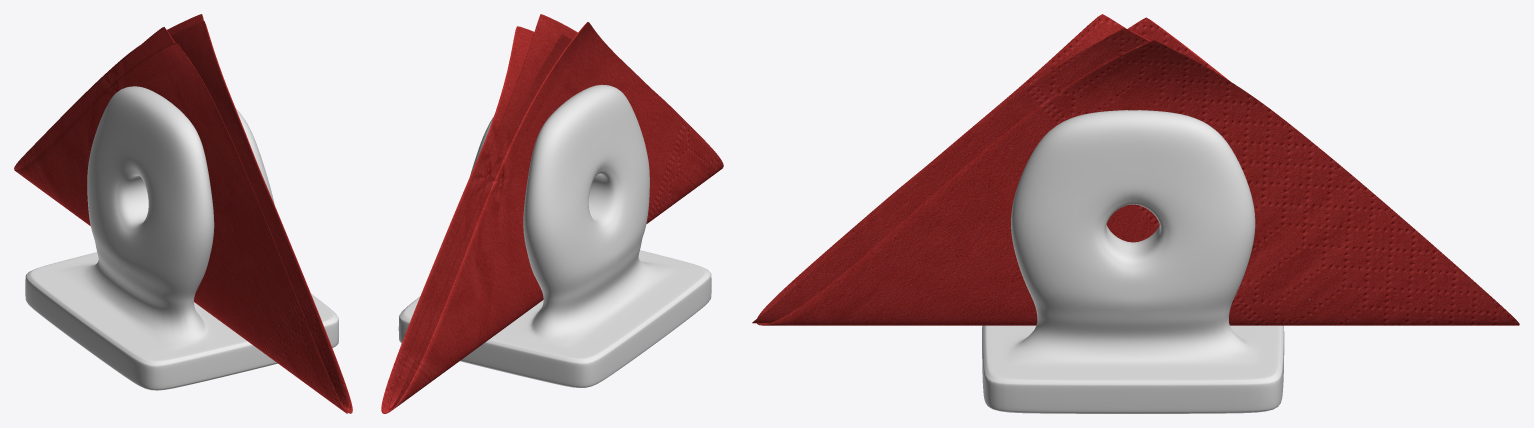
File: uploads_files_3504329_Handkerchief+stand.fbx
3 views of the same model, side by side, from view 1: azimuth 30°, elevation 25°; view 2: azimuth 150°, elevation 25°; view 3: azimuth 270°, elevation 25° (orthographic). The views are drawn at different scales.
Parts seen in each view (by area): view 1: stand, hand_2, hand; view 2: stand, hand_2, hand; view 3: hand_2, stand, hand.
Part boxes in pixels (x1,y1,x2,y2): stand: (25,86,338,390); hand_2: (14,14,347,413); hand: (14,21,352,413); stand: (398,84,711,387); hand_2: (381,22,723,413); hand: (389,14,577,409); hand_2: (757,14,1519,325); stand: (982,110,1284,413); hand: (752,17,1229,323).
Bounding box in the file's own units: 4.24 × 6.06 × 12.33.
Materials: 1 (1 with a texture image).
